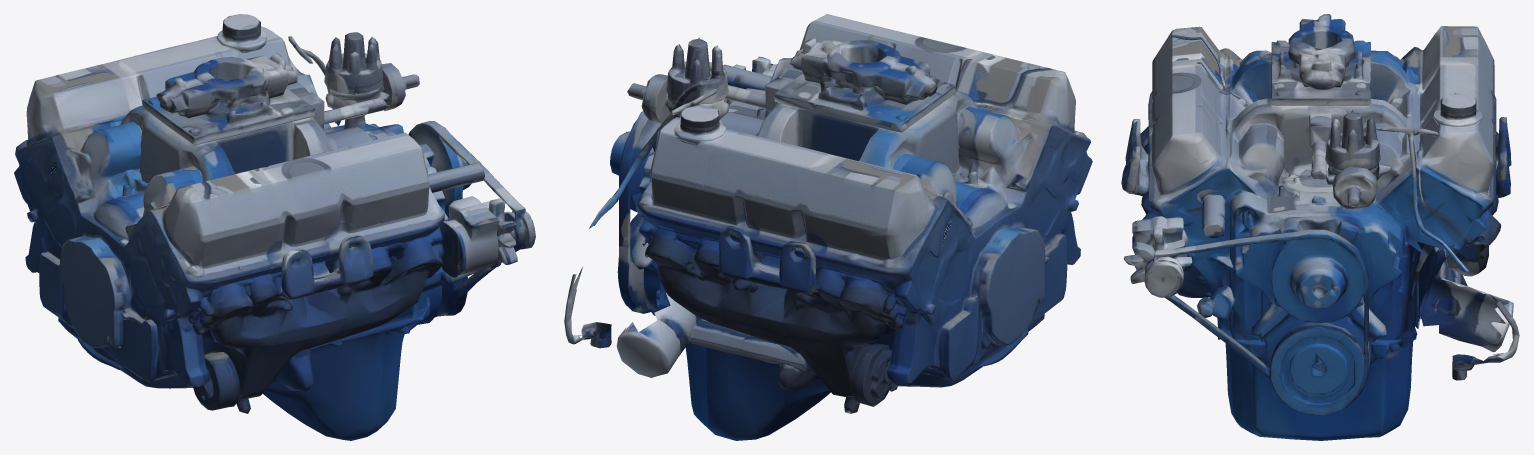
Rendered from engine_ford_351.glb.
The picture shows the model from 3 angles, left to right: view 1: azimuth 30°, elevation 25°; view 2: azimuth 150°, elevation 25°; view 3: azimuth 270°, elevation 25°; orthographic projection. The views are drawn at different scales.
Visible parts, largest first — view 1: engine_ford_351; view 2: engine_ford_351; view 3: engine_ford_351.
Boxes of the visible parts, x1,y1,x2,y2 form: engine_ford_351: [14, 14, 535, 440]; engine_ford_351: [564, 14, 1092, 440]; engine_ford_351: [1121, 14, 1519, 440].
Size of the model in its own units: 0.72 by 0.6698 by 0.6909.
Materials: 1 (1 with a texture image).
